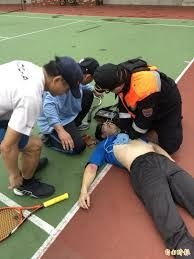falling: (74, 107, 194, 259)
